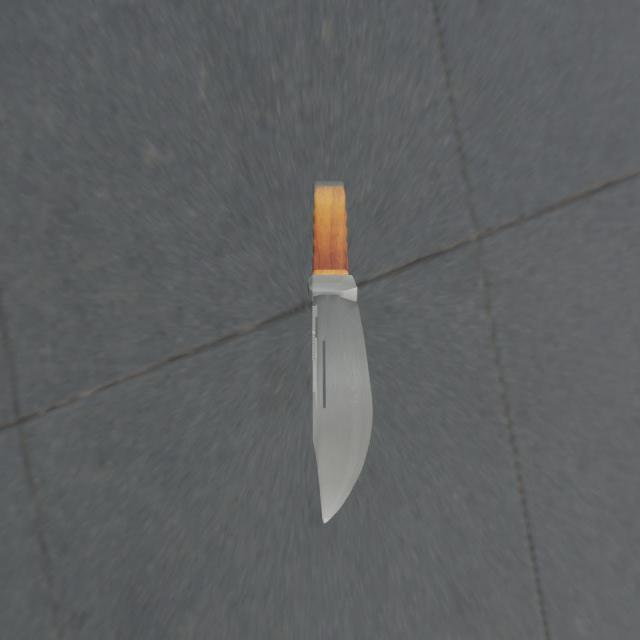knife: (308, 170, 353, 298)
